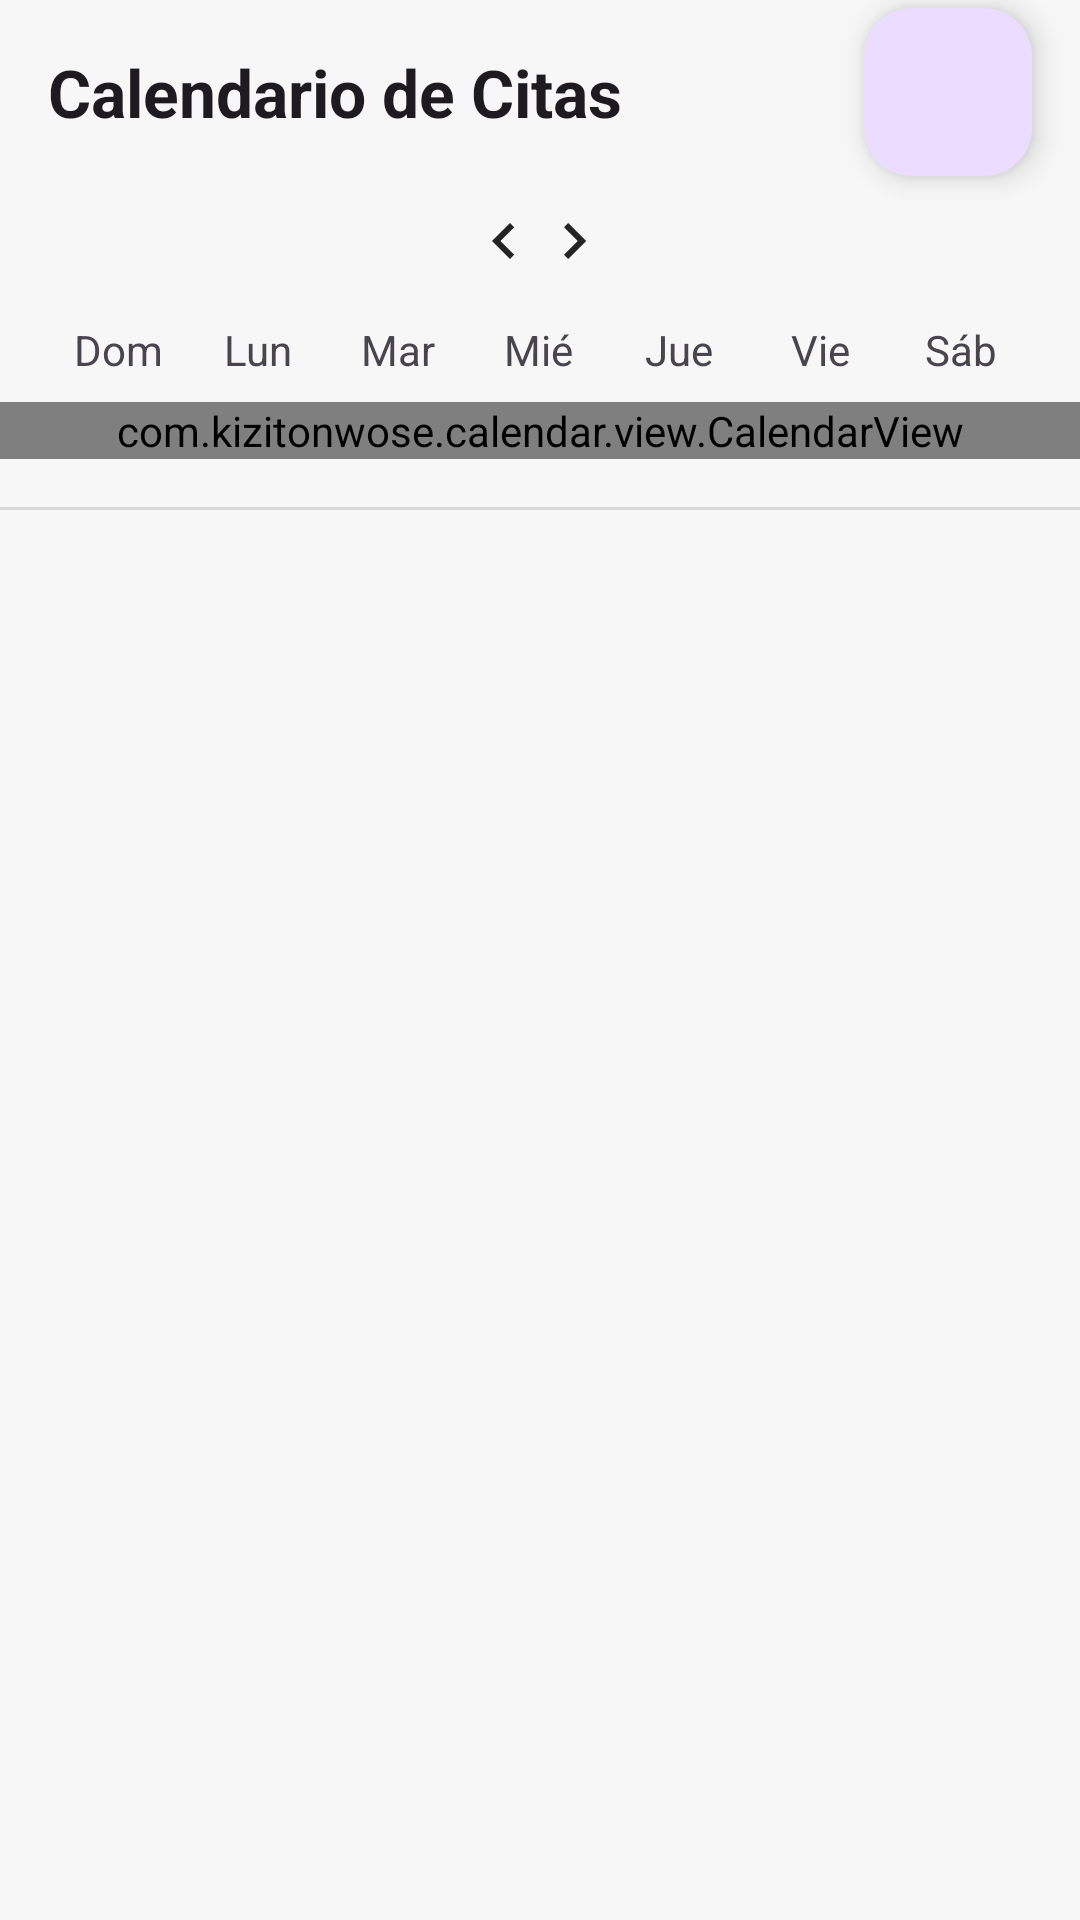

Icons on this 1080×1920 Android screen, each with the point to tap as [x,y]:
derecha: [575,241]
izquierda: [503,241]
